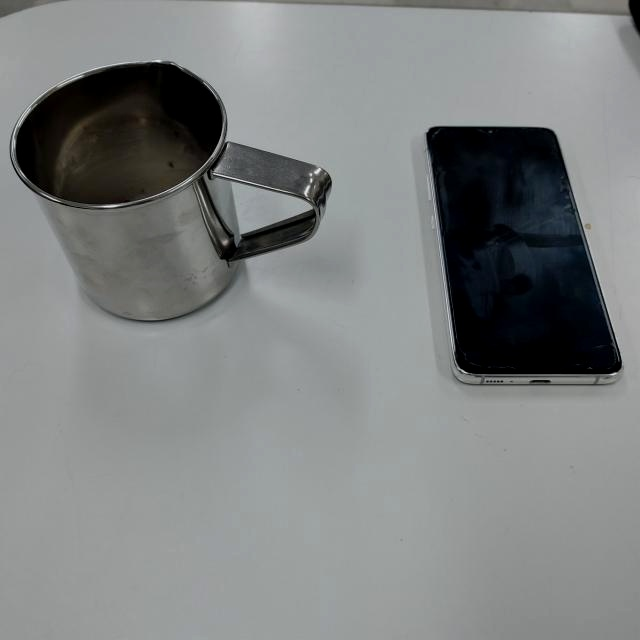cup: (10, 58, 334, 322)
phone: (427, 125, 622, 386)
